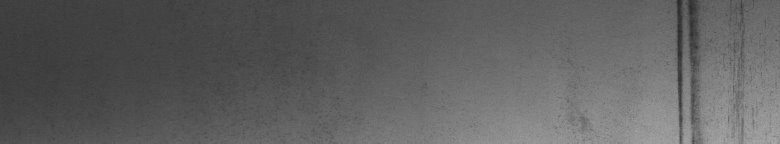hd: (664, 4, 754, 136)
